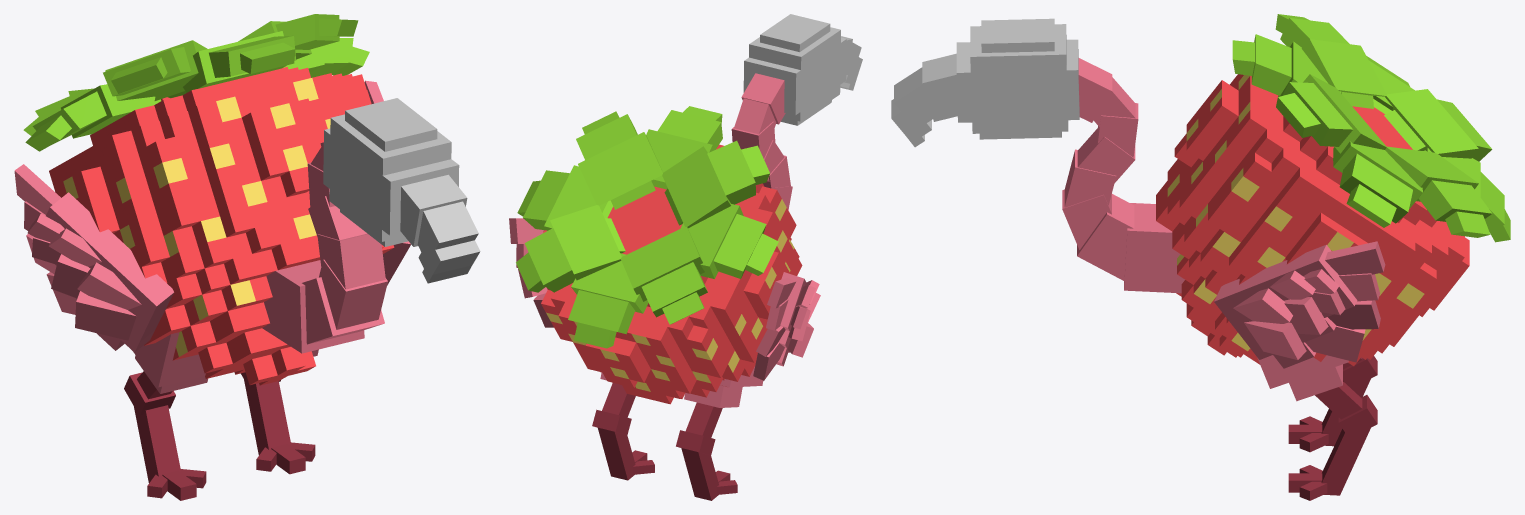
The picture shows the model from 3 angles, left to right: view 1: azimuth 30°, elevation 25°; view 2: azimuth 150°, elevation 25°; view 3: azimuth 270°, elevation 25°; orthographic projection. The views are drawn at different scales.
Parts seen in each view (by area): view 1: Pack 9.010; view 2: Pack 9.010; view 3: Pack 9.010.
Part boxes in pixels (x1=…): Pack 9.010: x1=14, y1=14, x2=480, y2=500; Pack 9.010: x1=509, y1=14, x2=862, y2=500; Pack 9.010: x1=891, y1=14, x2=1510, y2=500.
Size of the model in its own units: 142 by 169 by 218.
